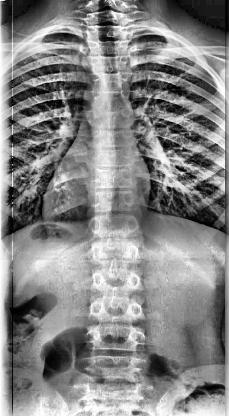Vertebrae: (83, 354, 149, 384), (87, 266, 147, 298), (86, 214, 144, 244), (86, 237, 144, 267), (88, 296, 146, 326), (86, 380, 152, 406), (84, 329, 148, 355), (89, 188, 141, 216), (89, 165, 138, 191), (82, 104, 134, 128), (87, 124, 137, 148), (88, 145, 138, 169), (87, 69, 135, 91), (83, 87, 135, 107), (86, 52, 132, 74), (84, 11, 132, 30), (86, 25, 136, 43), (84, 40, 134, 58)
